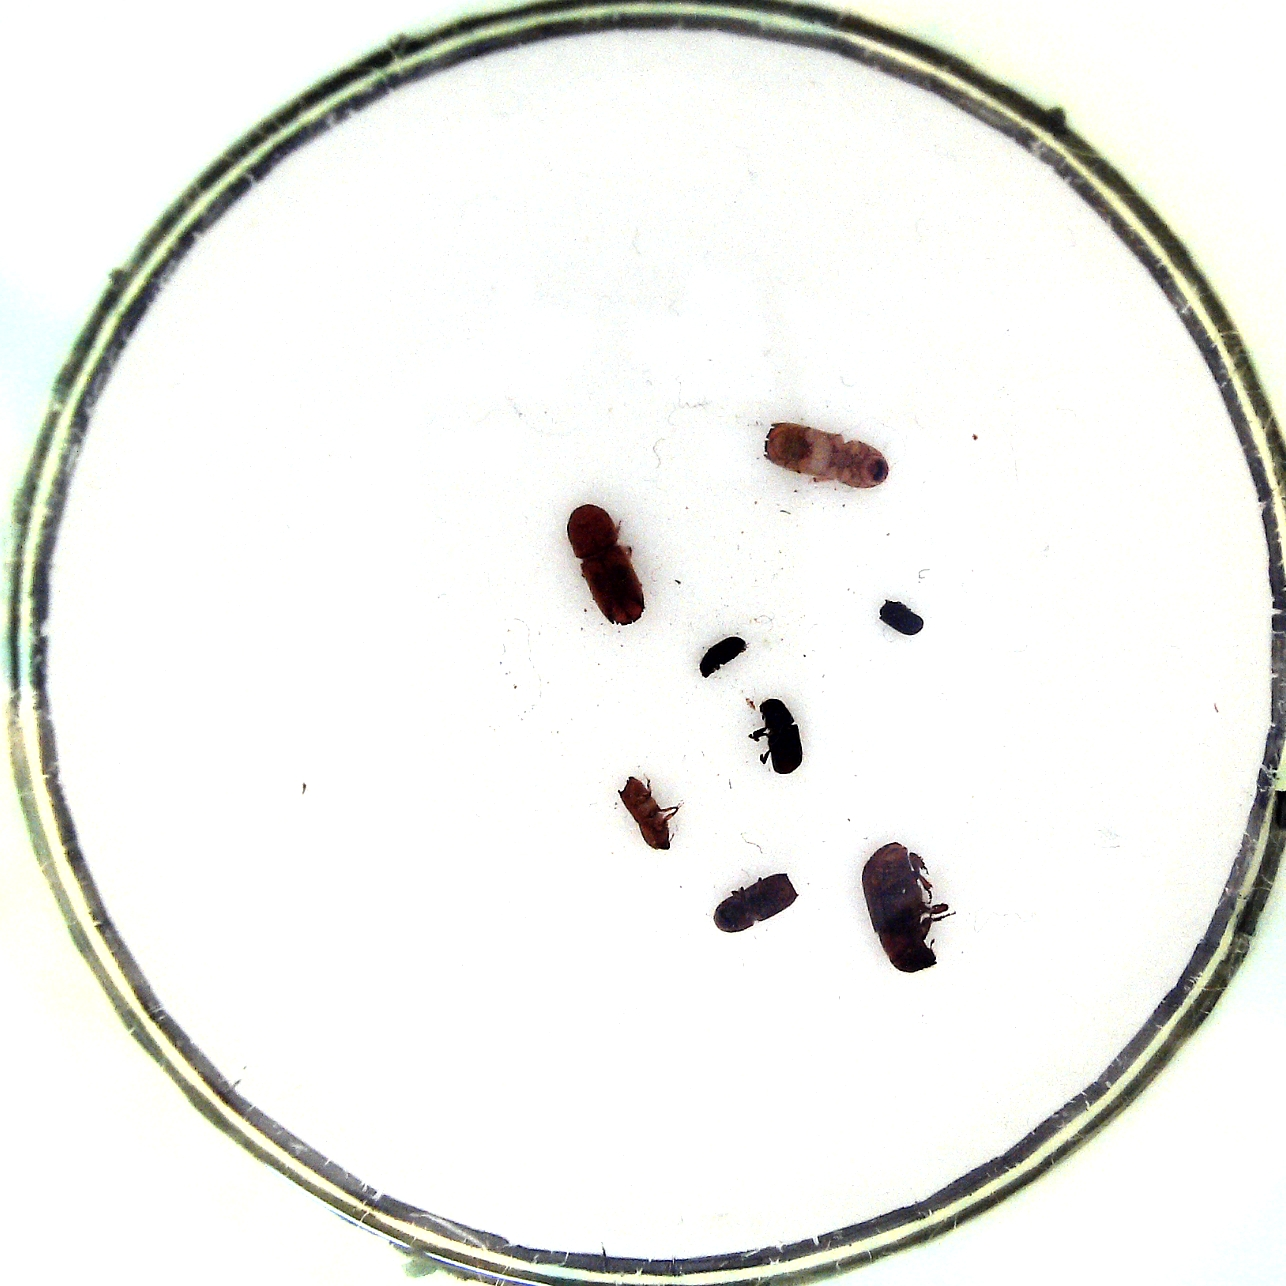Boerner: (561, 499, 650, 627), (757, 416, 894, 491)
Leconte: (859, 835, 955, 975)
Linnaeus: (711, 867, 801, 932)
acuminatus: (617, 768, 684, 853)
armandi: (748, 694, 807, 776)
coleoptera: (696, 634, 753, 676), (868, 598, 930, 635)
